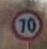limite 70: (10, 8, 42, 41)
